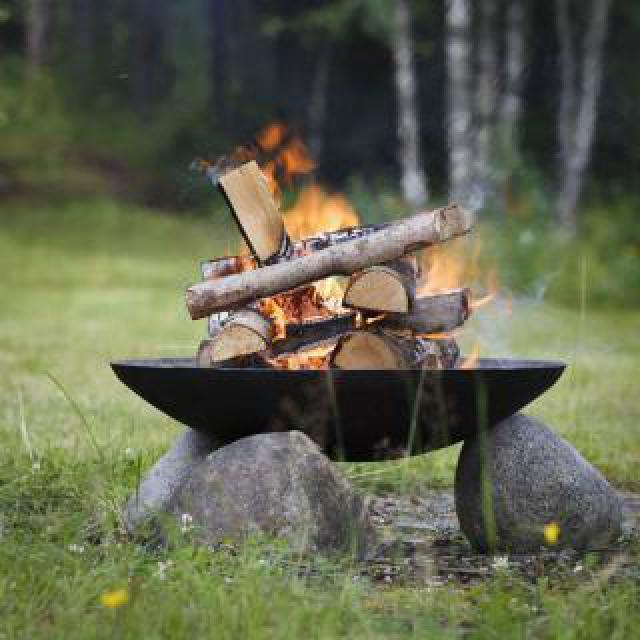Fire: (226, 120, 474, 346)
